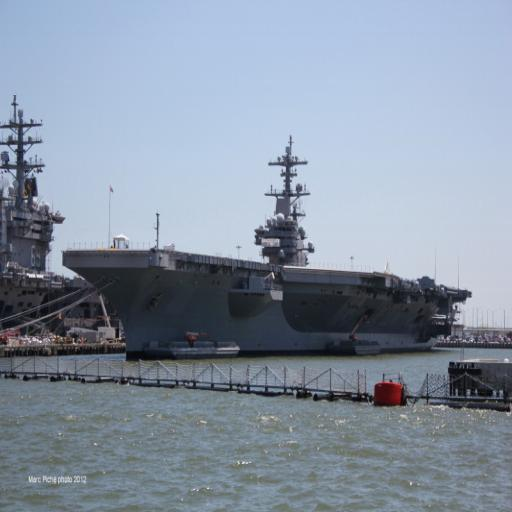Portanaves: (55, 135, 474, 365)
